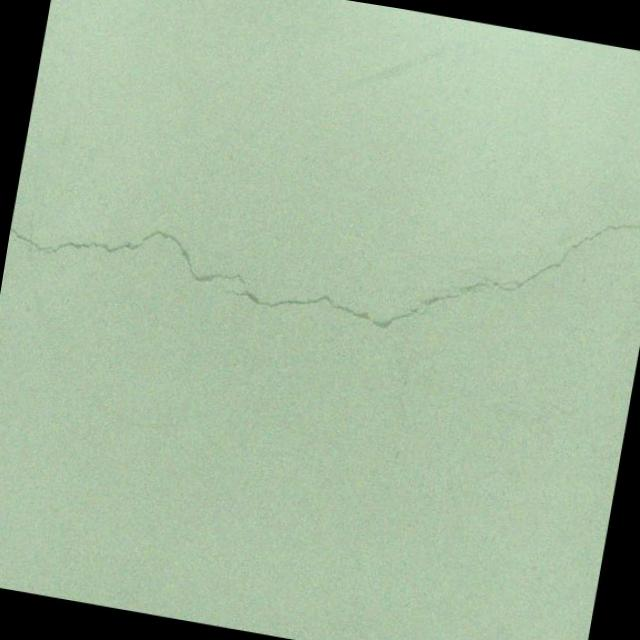crack: (0, 116, 640, 558), (337, 523, 386, 640)
